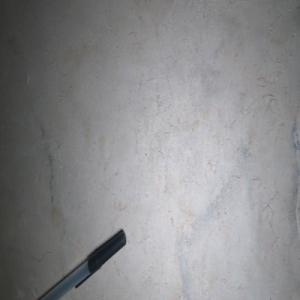Pen: (39, 229, 126, 300)
